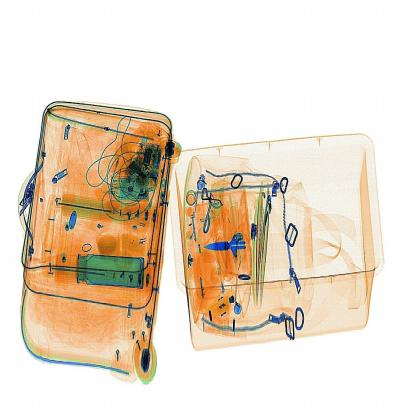gun: (204, 220, 260, 269)
